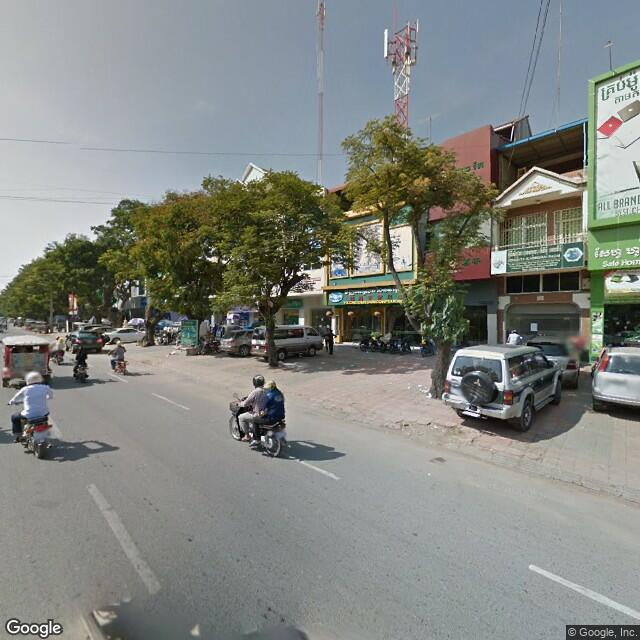litter: (414, 383, 432, 401)
